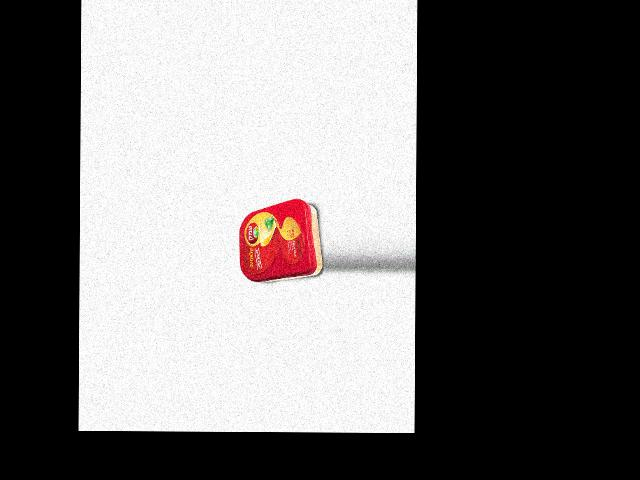cheese: (238, 198, 323, 282)
